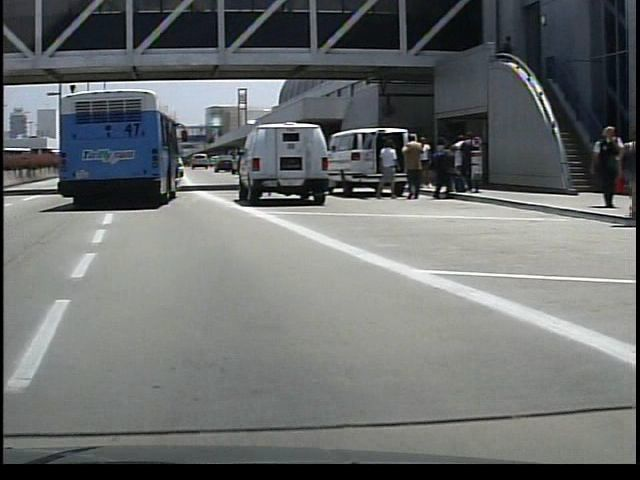person: (395, 132, 421, 201), (371, 134, 395, 199)
